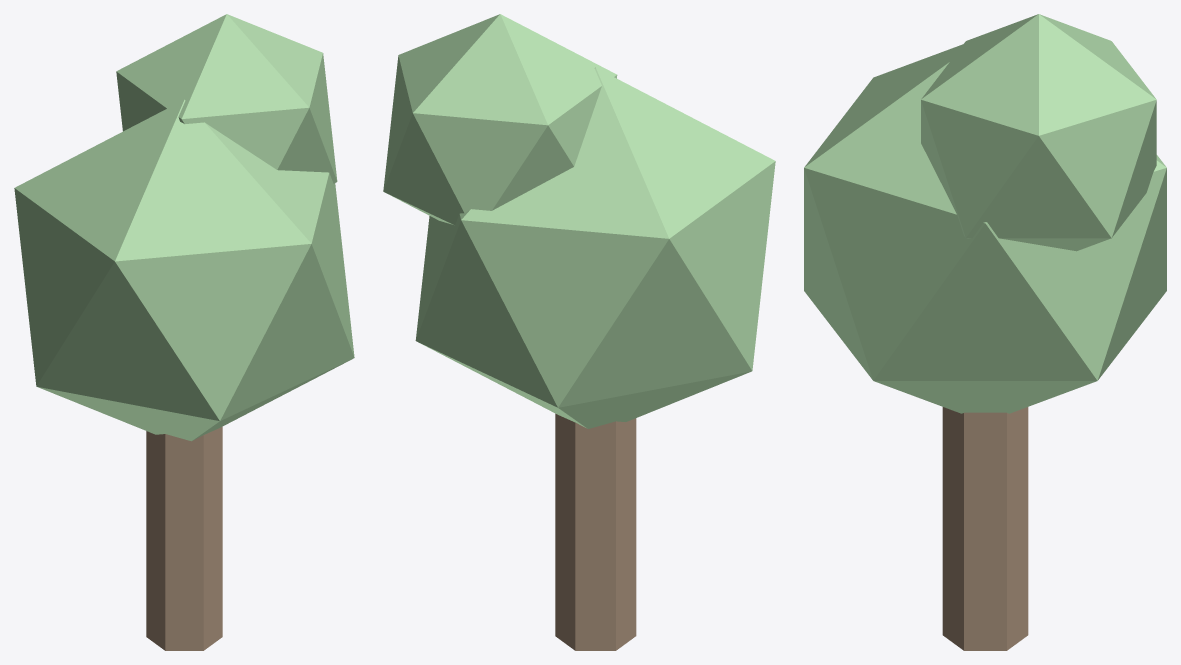
Rendered from Tree.fbx.
3 views of the same model, side by side, from view 1: azimuth 30°, elevation 25°; view 2: azimuth 150°, elevation 25°; view 3: azimuth 270°, elevation 25° (orthographic). The views are drawn at different scales.
Visible parts, largest first — view 1: Tree; view 2: Tree; view 3: Tree.
Part boxes in pixels (left/top/right/bottom): Tree: left=14, top=14, right=354, bottom=650; Tree: left=383, top=14, right=775, bottom=650; Tree: left=804, top=14, right=1166, bottom=650.
Bounding box in the file's own units: 0.3752 × 0.68 × 0.3403.
